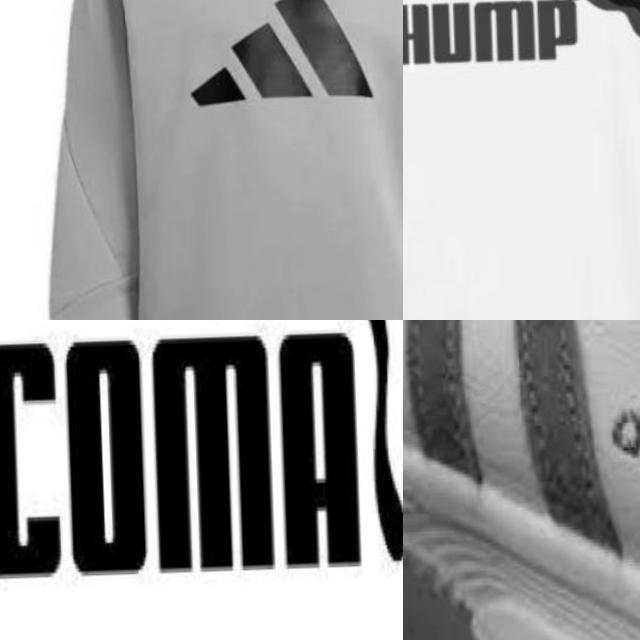ADIDAS_original: (172, 0, 391, 135)
PUMA_fake: (0, 320, 403, 615), (403, 0, 640, 86)
